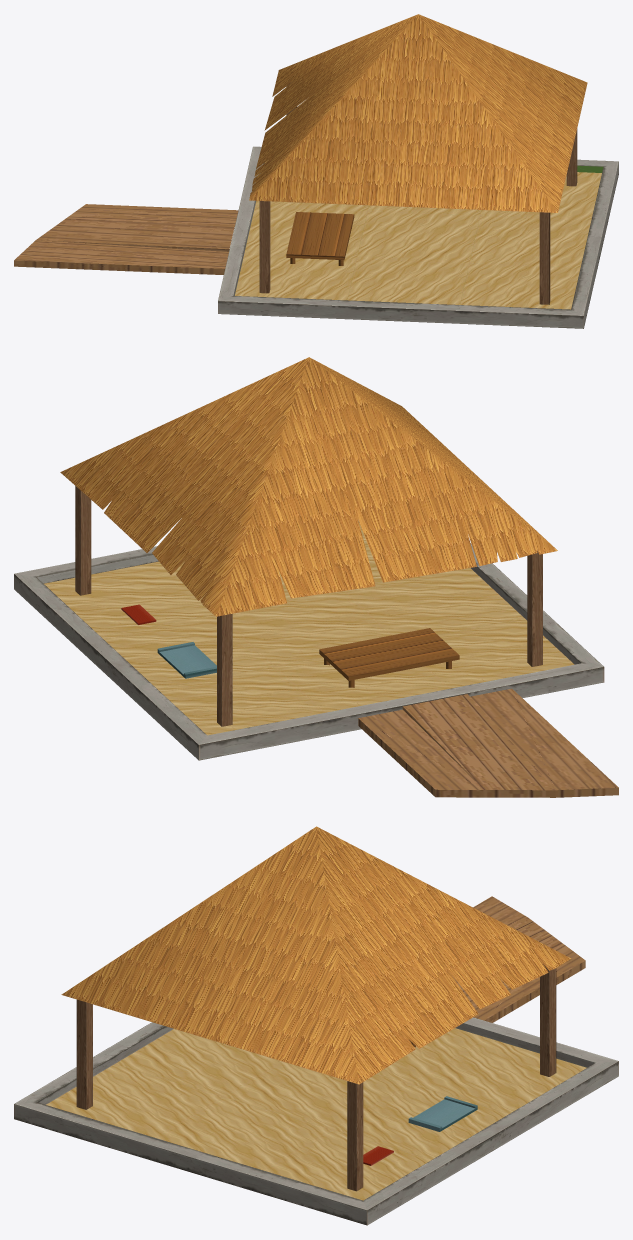
The picture shows the model from 3 angles, top to bottom: view 1: azimuth 30°, elevation 25°; view 2: azimuth 150°, elevation 25°; view 3: azimuth 270°, elevation 25°; orthographic projection. The views are drawn at different scales.
Parts seen in each view (by area): view 1: defaultMaterial.033; view 2: defaultMaterial.033; view 3: defaultMaterial.033.
Part boxes in pixels (left/top/right/bottom): defaultMaterial.033: left=14, top=14, right=618, bottom=328; defaultMaterial.033: left=14, top=357, right=618, bottom=797; defaultMaterial.033: left=14, top=826, right=618, bottom=1225.
Size of the model in its own units: 1015 by 404 by 816.
1 material, 1 textured.
